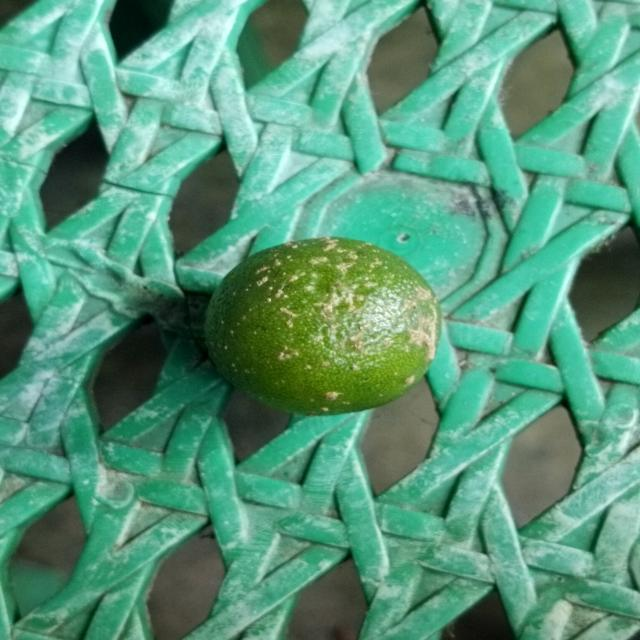scab: (198, 233, 448, 418)
